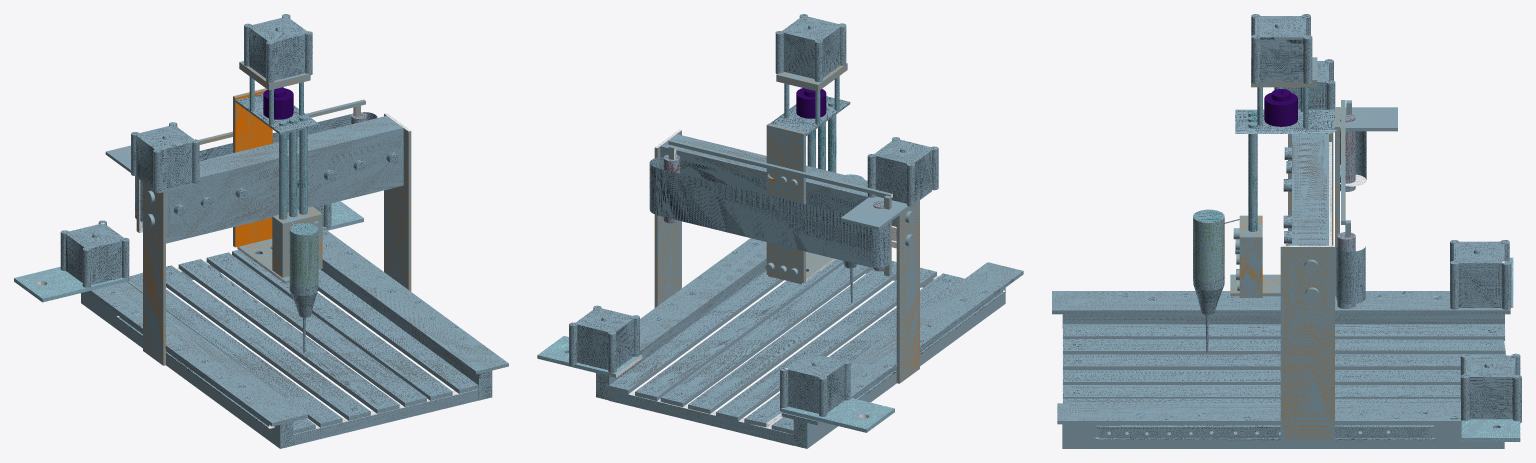
Rendered from maquina_002.obj.
3 renders of one model, left to right at view 1: azimuth 30°, elevation 25°; view 2: azimuth 150°, elevation 25°; view 3: azimuth 270°, elevation 25°, orthographic. The views are drawn at different scales.
Parts seen in each view (by area): view 1: Mesh1 Model, Mesh6 Model, Mesh5 Model, Mesh16 Model, Mesh7 Model, Mesh15 Model, Mesh28 Model, Mesh30 Model, Mesh26 Model, Mesh13 Model, Mesh10 Model, Mesh14 Model (+6 smaller); view 2: Mesh1 Model, Mesh11 Model, Mesh6 Model, Mesh5 Model, Mesh7 Model, Mesh13 Model, Mesh30 Model, Mesh28 Model, Mesh18 Model, Mesh26 Model, Mesh10 Model, Mesh15 Model (+6 smaller); view 3: Mesh1 Model, Mesh6 Model, Mesh5 Model, Mesh16 Model, Mesh3 Model, Mesh26 Model, Mesh30 Model, Mesh18 Model, Mesh14 Model, Mesh15 Model, Mesh12 Model, Mesh9 Model (+10 smaller).
Boxes of the visible parts, <box> form: Mesh1 Model: <box>81,230,508,448</box>; Mesh6 Model: <box>166,113,411,291</box>; Mesh5 Model: <box>87,282,307,426</box>; Mesh16 Model: <box>272,206,322,317</box>; Mesh7 Model: <box>143,182,165,365</box>; Mesh15 Model: <box>237,115,319,283</box>; Mesh28 Model: <box>131,122,193,190</box>; Mesh30 Model: <box>244,14,306,80</box>; Mesh26 Model: <box>60,220,123,285</box>; Mesh13 Model: <box>233,88,272,247</box>; Mesh10 Model: <box>14,237,129,302</box>; Mesh14 Model: <box>235,87,320,134</box>; Mesh1 Model: <box>596,238,1005,448</box>; Mesh11 Model: <box>656,160,891,276</box>; Mesh6 Model: <box>654,129,896,307</box>; Mesh5 Model: <box>781,262,1023,424</box>; Mesh7 Model: <box>896,200,919,383</box>; Mesh13 Model: <box>765,123,805,283</box>; Mesh30 Model: <box>775,16,840,81</box>; Mesh28 Model: <box>867,139,932,206</box>; Mesh18 Model: <box>569,308,633,372</box>; Mesh26 Model: <box>780,353,844,416</box>; Mesh10 Model: <box>781,350,894,432</box>; Mesh15 Model: <box>768,101,836,284</box>; Mesh1 Model: <box>1057,314,1506,448</box>; Mesh6 Model: <box>1280,134,1334,441</box>; Mesh5 Model: <box>1052,291,1510,314</box>; Mesh16 Model: <box>1193,209,1262,314</box>; Mesh3 Model: <box>1095,428,1434,440</box>; Mesh26 Model: <box>1454,240,1511,309</box>; Mesh30 Model: <box>1255,14,1312,83</box>; Mesh18 Model: <box>1464,353,1521,422</box>; Mesh14 Model: <box>1235,89,1336,133</box>; Mesh15 Model: <box>1230,110,1336,296</box>; Mesh12 Model: <box>1336,246,1365,304</box>; Mesh9 Model: <box>1461,419,1520,441</box>.
Bounding box in the file's own units: 148 × 142 × 166.
